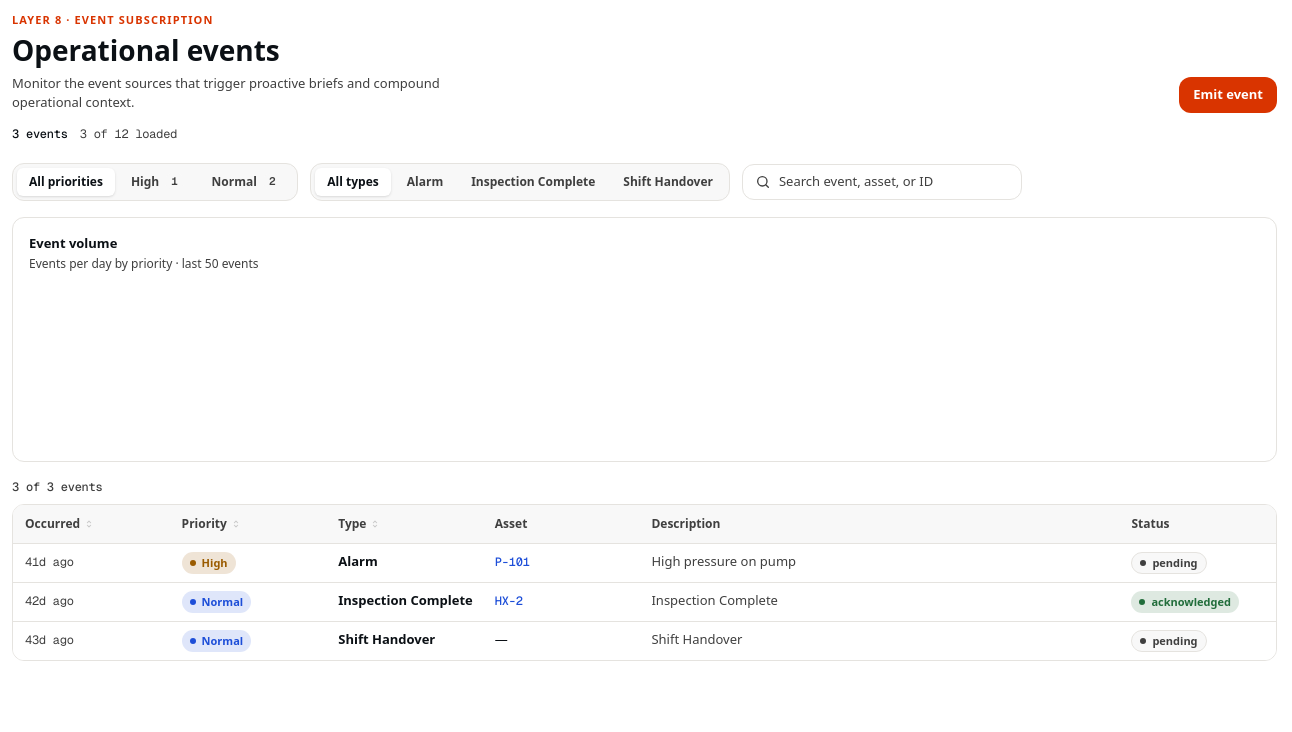
EventsPage › filters via search and priority tabs
This screenshot has width=1292, height=732.
Type "HX-2" into the search field named "Search events". click: x=894, y=182
box: [779, 172, 1009, 191]
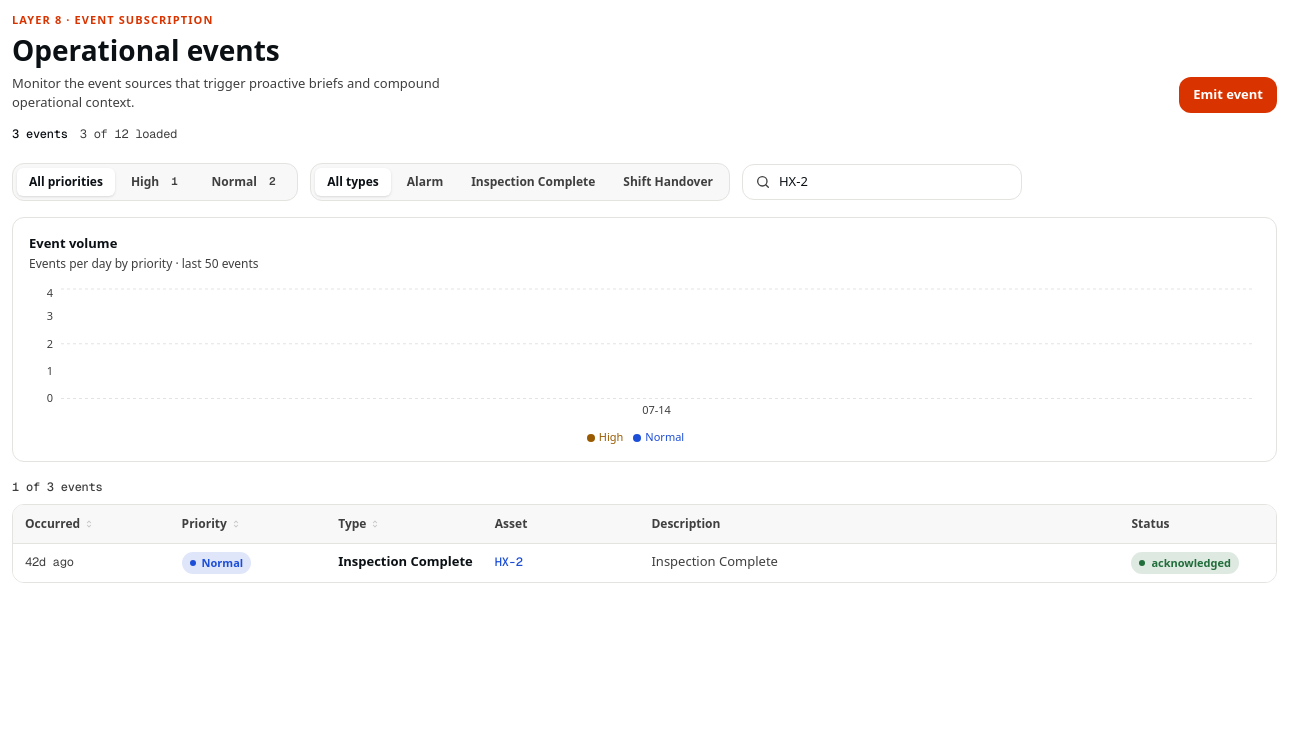
Expected: the text "1 of 3 events" is shown, [12, 479, 102, 495]
Expected: the link "P-101" is gone
Clear the search field named "Search events". click: x=894, y=182
box: [779, 172, 1009, 191]
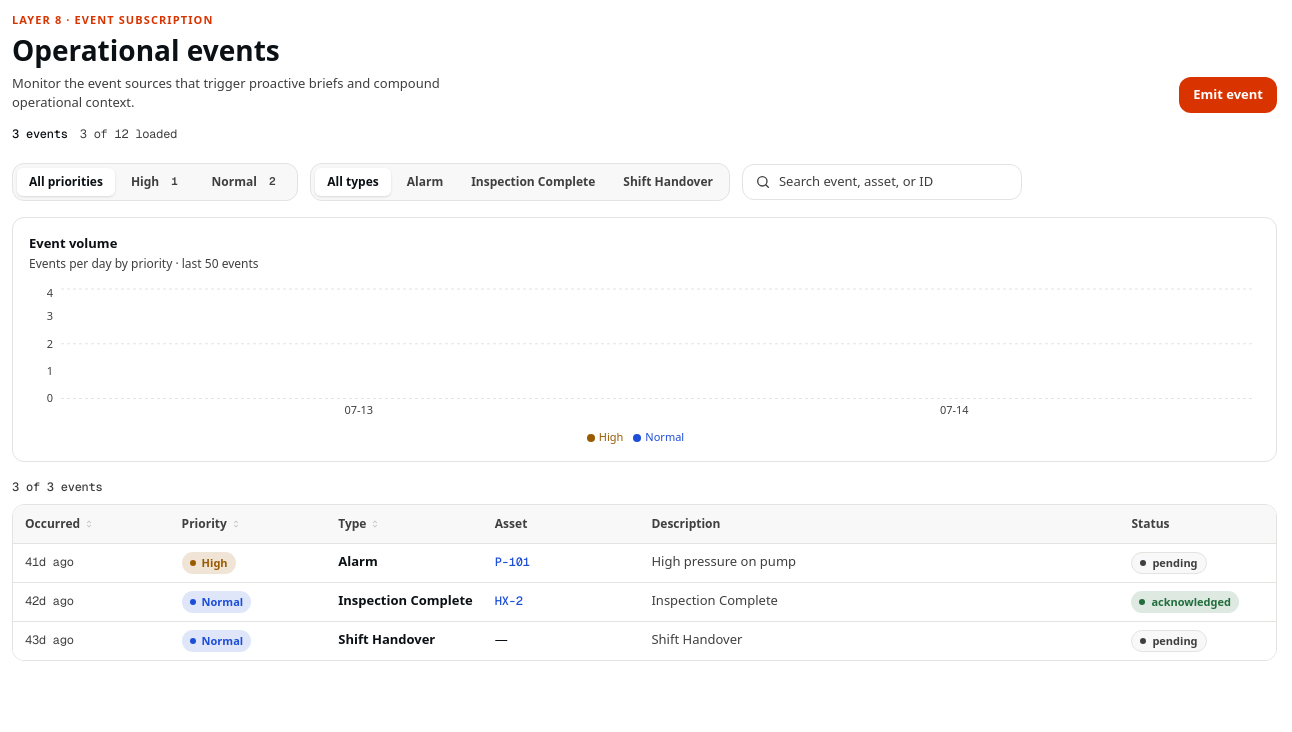
Click the button "High 1". click: x=157, y=182
box: [119, 168, 196, 196]
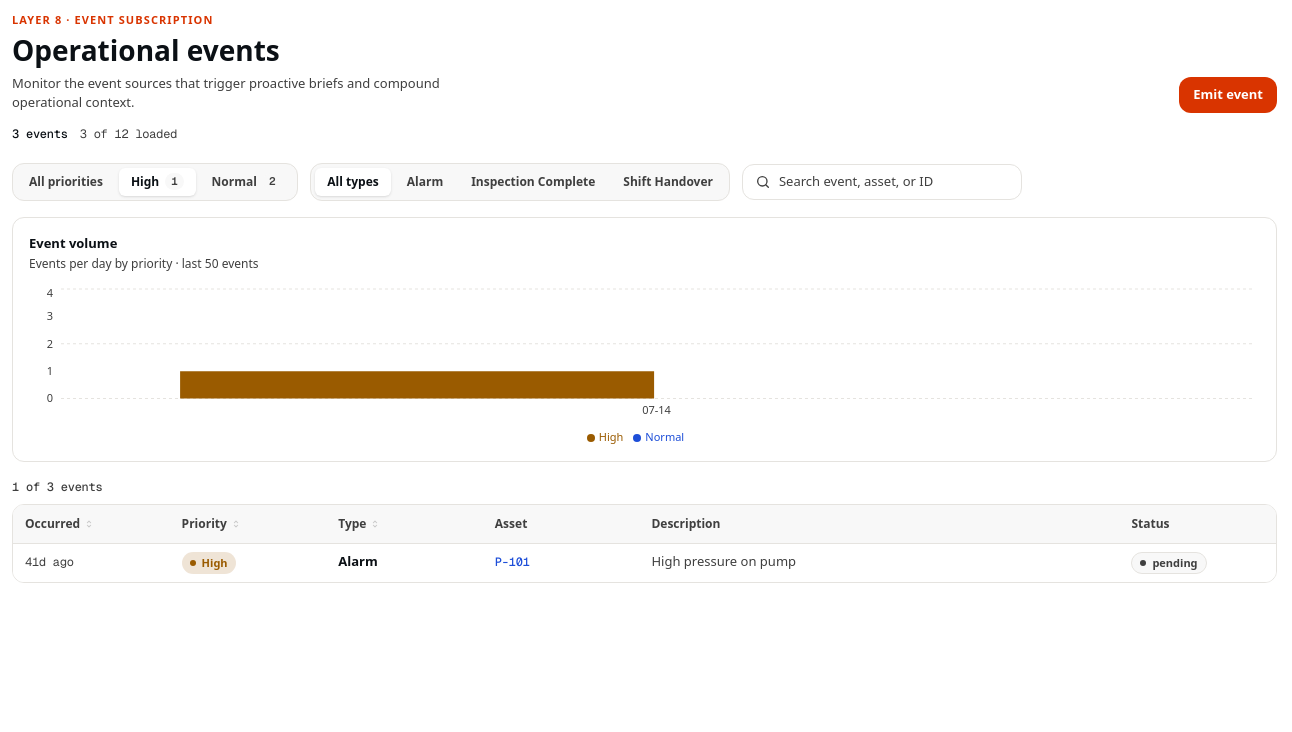
Expected: the link "P-101" is shown, [495, 554, 530, 570]
Expected: the text "1 of 3 events" is shown, [12, 479, 102, 495]
Expected: the link "HX-2" is gone
